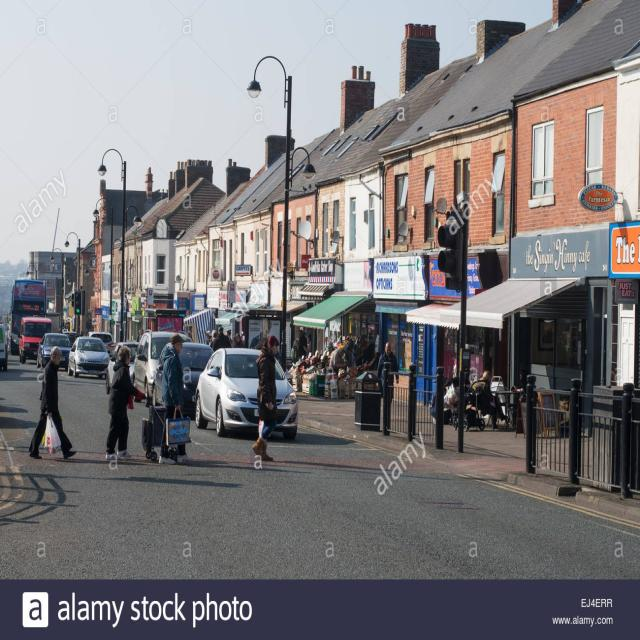body: (26, 344, 78, 461), (153, 332, 196, 467), (103, 343, 149, 463), (250, 334, 281, 464), (375, 339, 400, 434), (473, 368, 508, 431), (247, 318, 280, 364), (48, 330, 112, 352), (510, 370, 527, 430), (429, 386, 452, 426), (556, 389, 575, 437), (343, 340, 358, 398), (135, 327, 149, 368), (297, 325, 312, 363), (329, 346, 346, 379), (212, 325, 232, 352), (358, 335, 373, 364), (208, 329, 219, 353), (290, 338, 300, 364), (233, 331, 245, 348), (188, 349, 198, 365), (226, 328, 233, 348), (227, 359, 236, 372), (205, 330, 212, 346), (187, 329, 194, 342), (152, 344, 159, 357), (12, 319, 20, 328), (26, 324, 32, 334)
